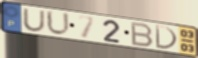2: (100, 18, 123, 45)
7: (77, 14, 96, 40)
B: (130, 21, 155, 48)
D: (154, 24, 179, 51)
U: (45, 9, 73, 38), (22, 8, 47, 34)
